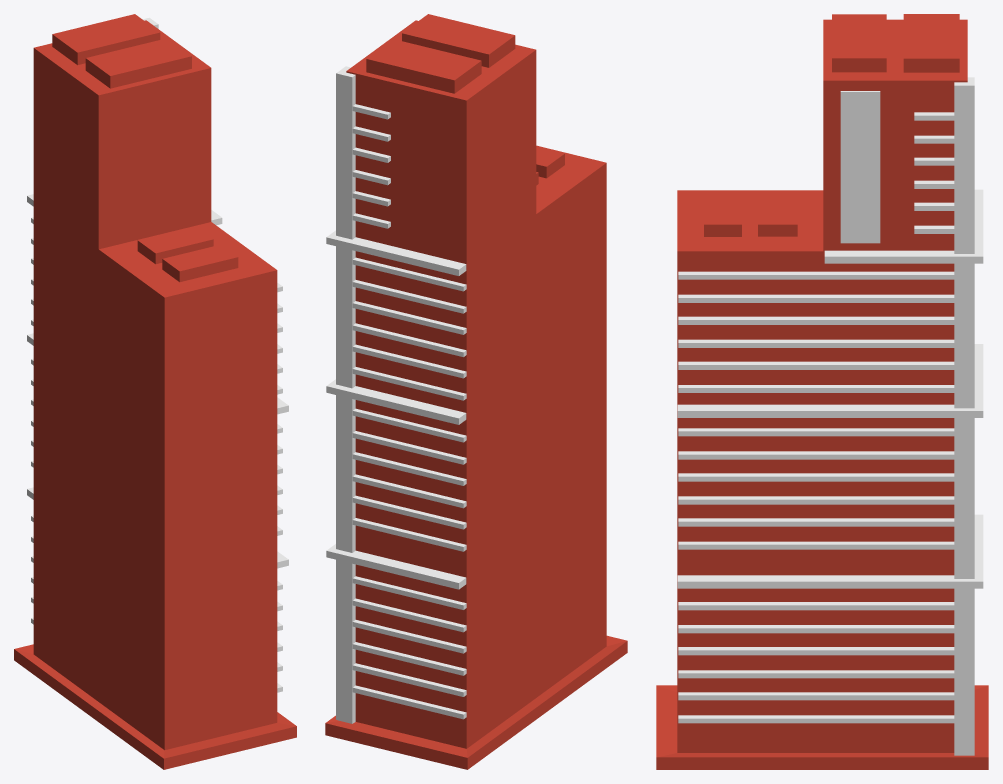
The model's file is Building_3_Red.glb.
3 renders of one model, left to right at view 1: azimuth 30°, elevation 25°; view 2: azimuth 150°, elevation 25°; view 3: azimuth 270°, elevation 25°, orthographic. The views are drawn at different scales.
Visible parts, largest first — view 1: pCube17; view 2: pCube17; view 3: pCube17.
Part boxes in pixels (x1,y1,x2,y2): pCube17: (14,14,296,769); pCube17: (325,14,627,769); pCube17: (656,14,988,769).
Bounding box in the file's own units: 14.22 × 63.56 × 27.42.
